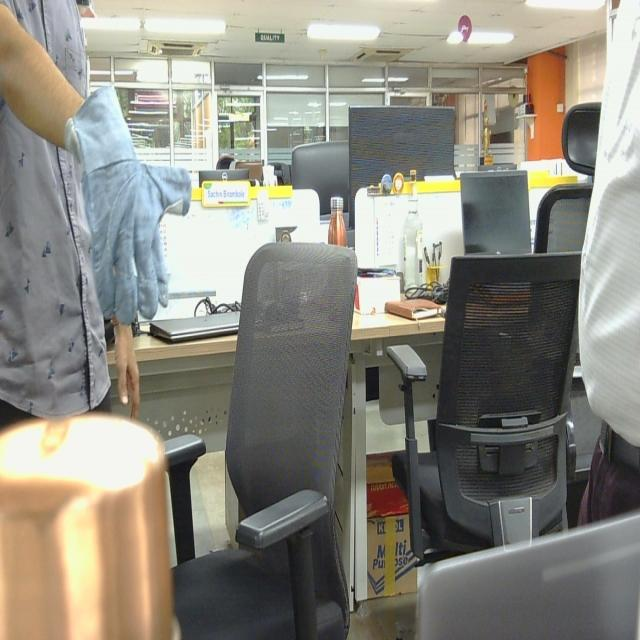Gloves-Detection: (64, 80, 190, 318)
